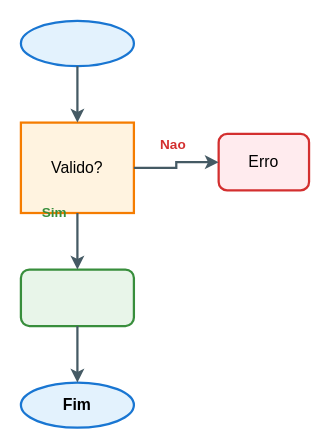
This 329x447 diagram has some shape labels left out. Each missing label, with the box of its shape:
Inicio: (19, 19, 134, 67)
Processar: (19, 268, 134, 327)
